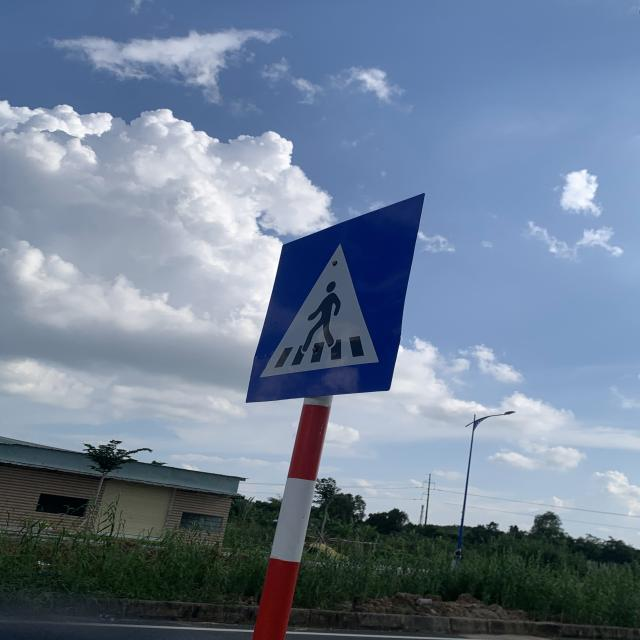Giao_Nhau_Duong_Uu_Tien: (247, 191, 423, 408)
